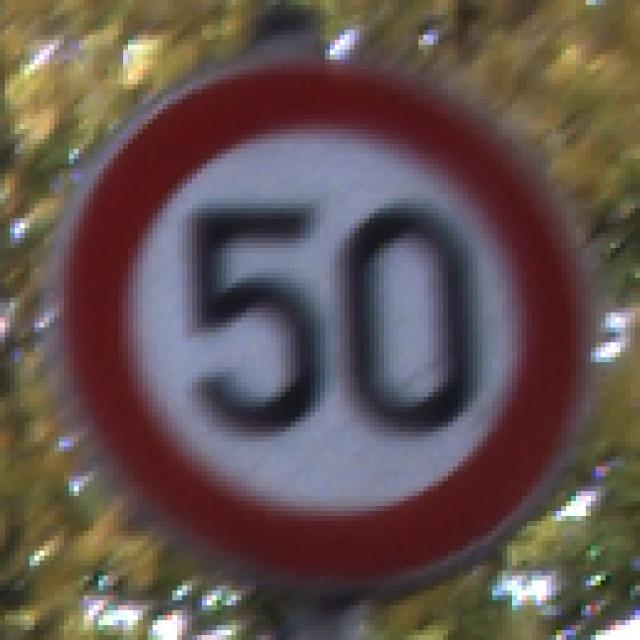speed limit 50: (44, 48, 590, 590)
